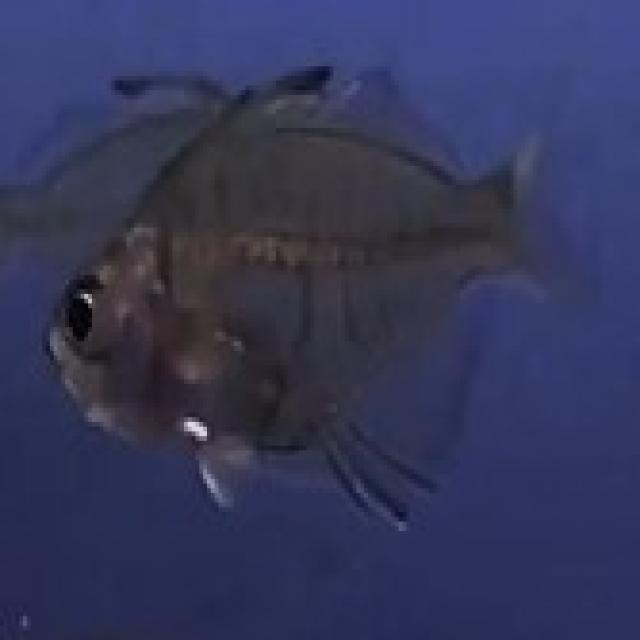Glass-Perchlet: (26, 95, 591, 562)
